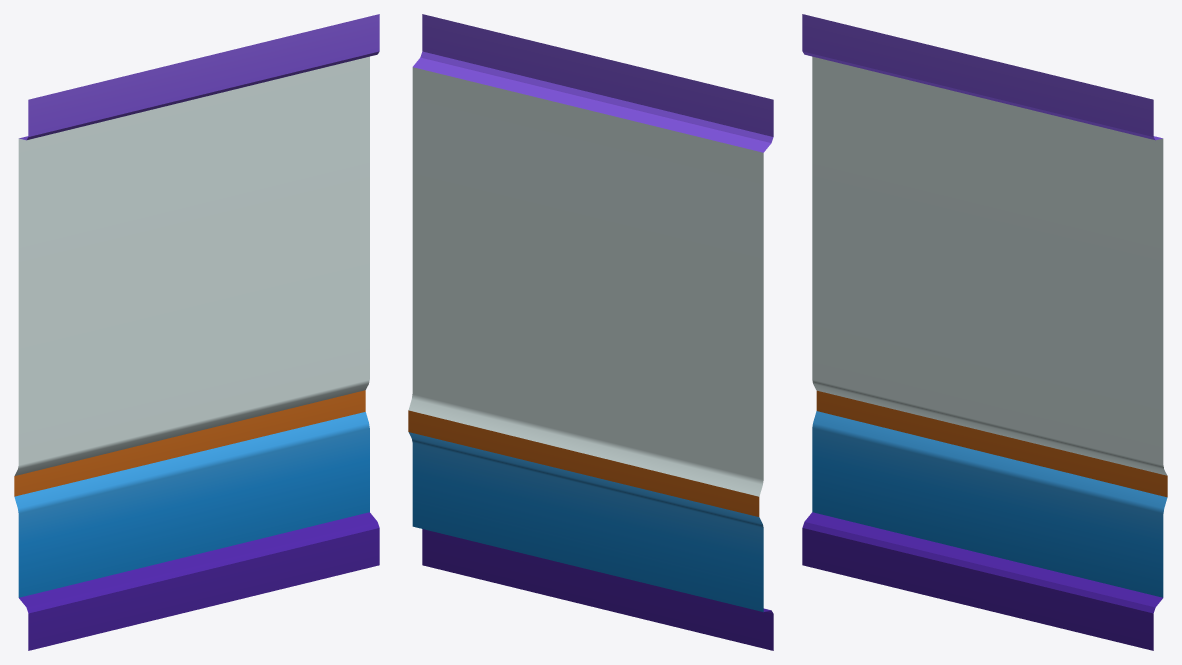
Rendered from SM_Factory_Wall_03.fbx.
3 renders of one model, left to right at view 1: azimuth 30°, elevation 25°; view 2: azimuth 150°, elevation 25°; view 3: azimuth 330°, elevation 25°, orthographic.
Parts seen in each view (by area): view 1: polySurface5; view 2: polySurface5; view 3: polySurface5.
Part boxes in pixels (x1,y1,x2,y2): polySurface5: (14,14,379,650); polySurface5: (408,14,773,650); polySurface5: (802,14,1167,650).
Bounding box in the file's own units: 200 × 13.87 × 300.
